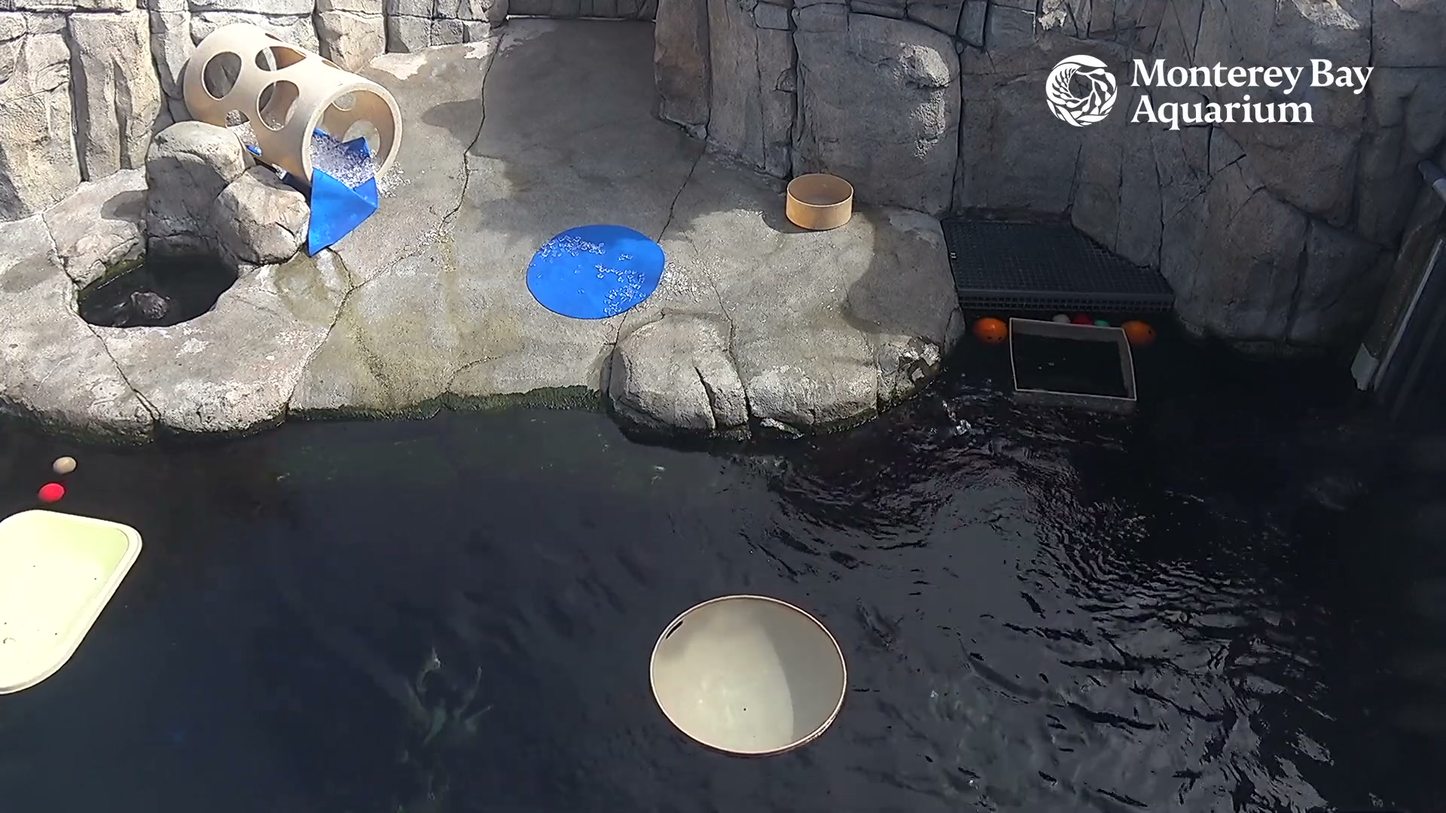Southern Sea Otter: (99, 269, 195, 341)
